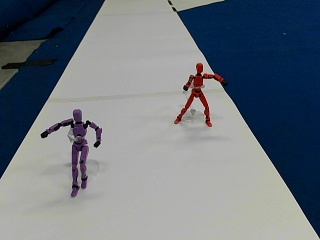pedestrian: (42, 109, 102, 194), (174, 62, 227, 126)
